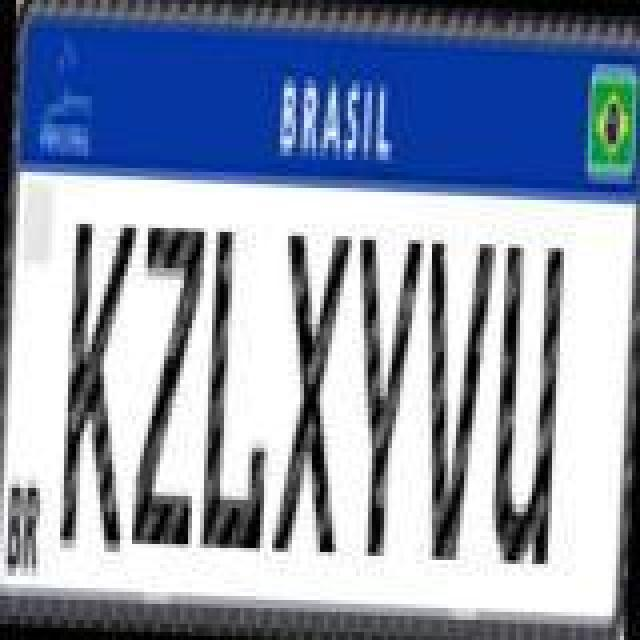K: (54, 216, 138, 552)
L: (200, 226, 280, 558)
U: (490, 240, 566, 576)
V: (414, 234, 498, 566)
X: (270, 228, 354, 556)
Y: (342, 232, 426, 560)
Z: (128, 218, 208, 550)
